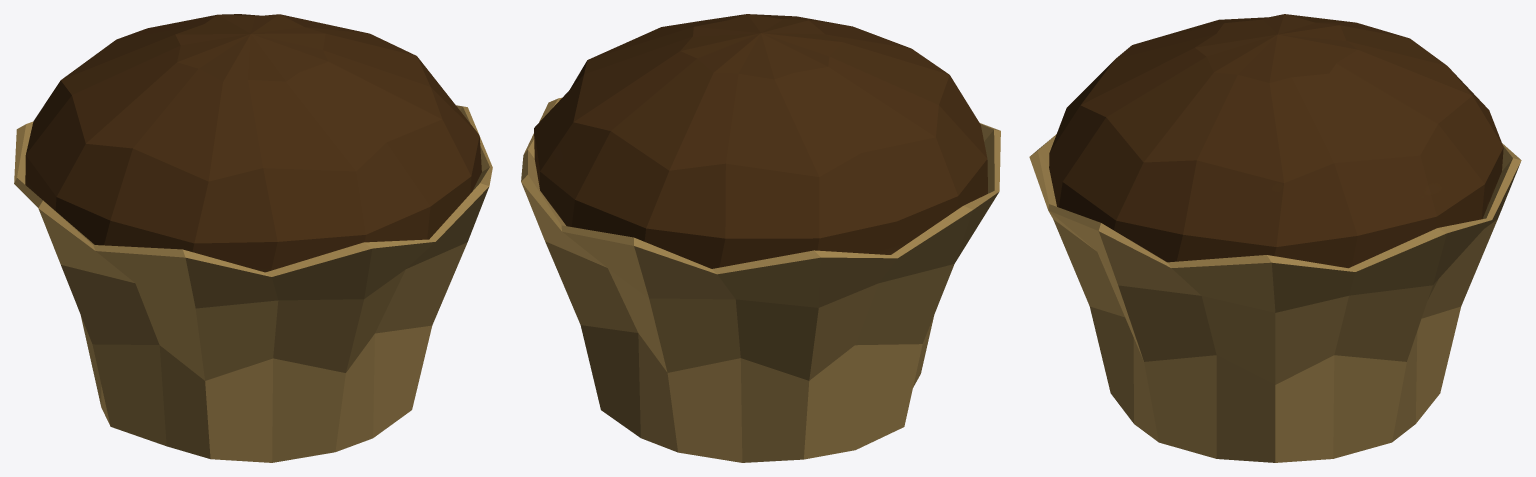
Rendered from muffin.fbx.
3 views of the same model, side by side, from view 1: azimuth 30°, elevation 25°; view 2: azimuth 150°, elevation 25°; view 3: azimuth 270°, elevation 25° (orthographic).
Visible parts, largest first — view 1: Muffin-Pro; view 2: Muffin-Pro; view 3: Muffin-Pro.
Part boxes in pixels (x1,y1,x2,y2): Muffin-Pro: (14, 14, 492, 462); Muffin-Pro: (521, 14, 1000, 462); Muffin-Pro: (1029, 14, 1521, 462).
Size of the model in its own units: 56.12 by 45.98 by 56.13.
